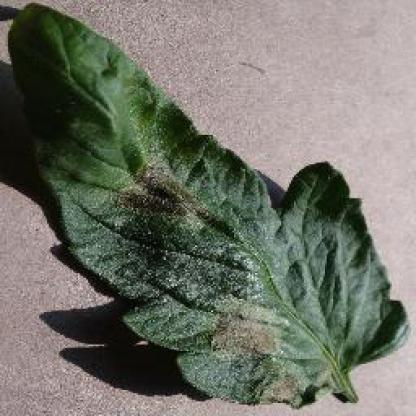bad leaf: (0, 1, 411, 414)
